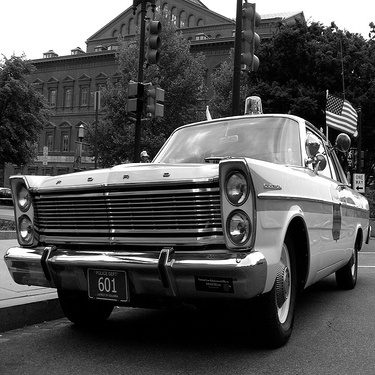car: (2, 105, 373, 354)
